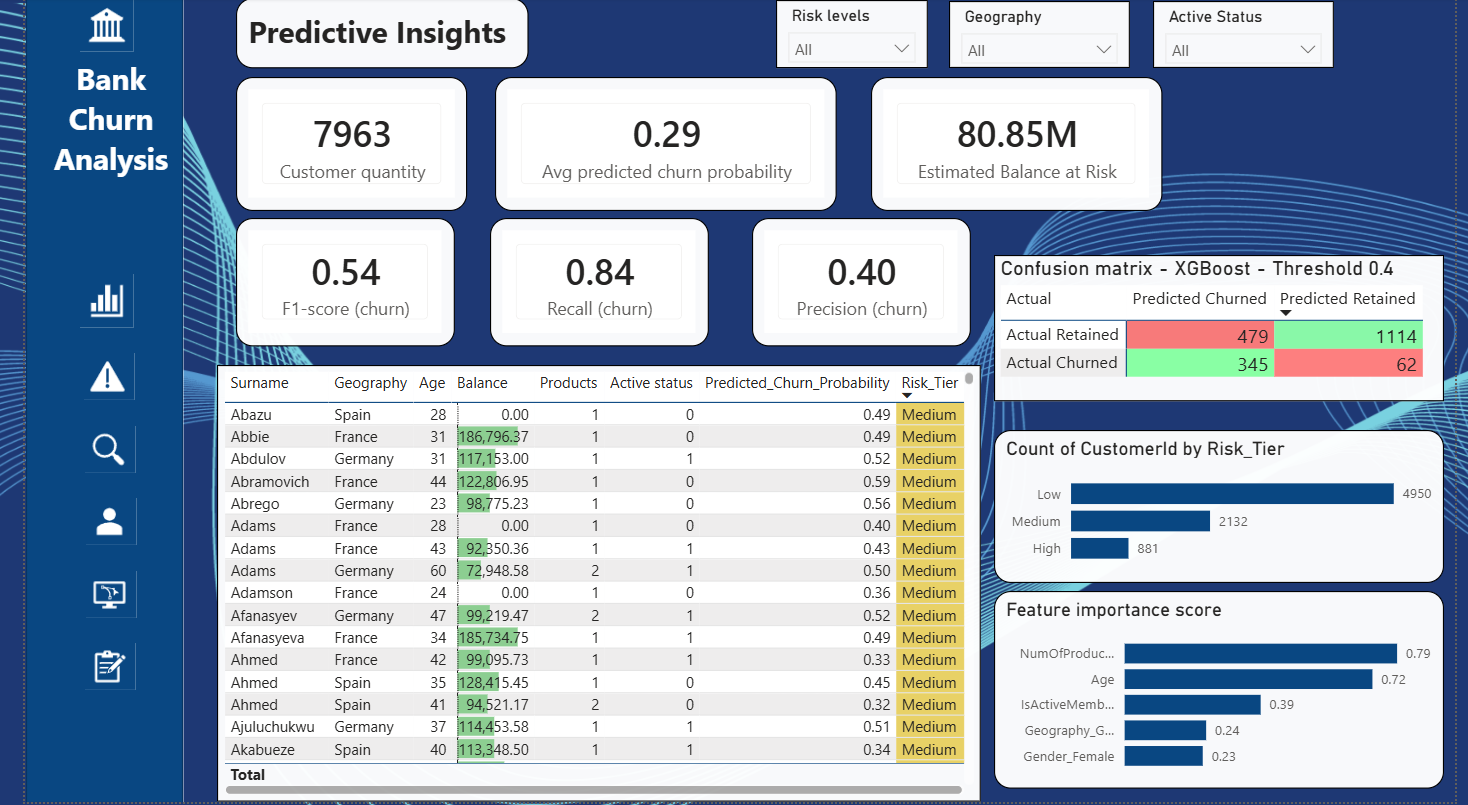

Layout of this report page (visuals, bound fields, positions):
{"tool":"powerbi","page":{"name":"🤖Predictive insights","canvas":[1280,720],"ordinal":4},"visuals":[{"type":"cardVisual","fields":{"Data":["DAX Measures prediction.Avg Predicted Churn Probability"]},"box":[421.2,71,306.4,119.6],"z":0},{"type":"cardVisual","fields":{"Data":["CountNonNull(bank_churn_predictions.Risk_Tier)"]},"box":[188.7,71,207.2,119.6],"z":1000},{"type":"cardVisual","fields":{"Data":["DAX Measures prediction.Estimated Balance at Risk"]},"box":[757.7,71,260.7,119.6],"z":2000},{"type":"tableEx","fields":{"Values":["Bank_Churn.Surname","Bank_Churn.Geography","Bank_Churn.Age","Bank_Churn.Balance","Bank_Churn.NumOfProducts","Bank_Churn.IsActiveMember","bank_churn_predictions.Predicted_Churn_Probability","bank_churn_predictions.Risk_Tier"]},"box":[172.2,328.8,683.8,391],"z":3000},{"type":"shape","box":[0.9,0,140.6,720.9],"z":4000},{"type":"textbox","box":[188.7,0,261.6,63.2],"z":5000},{"type":"slicer","fields":{"Values":["bank_churn_predictions.Risk_Tier"]},"box":[672.1,1.9,136.2,61.3],"z":6000},{"type":"cardVisual","fields":{"Data":["Sum(Metrics_both_class.Precision)"]},"box":[650.7,197.4,195.5,114.8],"z":7000},{"type":"cardVisual","fields":{"Data":["Sum(Metrics_both_class.Recall)"]},"box":[416.3,197.4,195.5,114.8],"z":8000},{"type":"cardVisual","fields":{"Data":["Sum(Metrics_both_class.F1-score)"]},"box":[188.7,197.4,195.5,114.8],"z":9000},{"type":"clusteredBarChart","title":"Feature importance score","fields":{"Category":["SHAP importance.Features"],"Y":["Sum(SHAP importance.Importance)"]},"box":[867.8,531,403,177.3],"z":10000},{"type":"pivotTable","title":"Confusion matrix - XGBoost - Threshold 0.4","fields":{"Rows":["Confusion Matrix.Actual"],"Values":["Sum(Confusion Matrix.Predicted Churned)","Sum(Confusion Matrix.Predicted Retained)"]},"box":[867.8,230.1,403,130.7],"z":11000},{"type":"slicer","fields":{"Values":["rfm_master_table_1.Geography"]},"box":[827.7,2.9,162.4,60.3],"z":12000},{"type":"slicer","fields":{"Values":["rfm_master_table_1.IsActive Status"]},"box":[1010.6,2.9,162.4,60.3],"z":13000},{"type":"clusteredBarChart","fields":{"Category":["bank_churn_predictions.Risk_Tier"],"Y":["CountNonNull(bank_churn_predictions.CustomerId)"]},"box":[867.8,386.9,403,137],"z":14000},{"type":"actionButton","box":[49.3,247.2,48.4,48.4],"z":15000},{"type":"actionButton","box":[53.9,383.1,44.8,42.1],"z":16000},{"type":"actionButton","box":[54.3,512.8,44.8,42.1],"z":17000},{"type":"actionButton","box":[53.2,318.3,44.8,42.1],"z":18000},{"type":"actionButton","box":[54.6,447.9,44.8,42.1],"z":19000},{"type":"actionButton","box":[53.6,577.6,44.8,42.1],"z":20000},{"type":"textbox","box":[7.2,48.4,139.7,128.1],"z":21000},{"type":"actionButton","box":[49.3,0,48.4,48.4],"z":22000}]}

Visuals, with their boxes in screenshot pixels (x1, y1, x2, y2):
cardVisual - DAX Measures prediction.Avg Predicted Churn Probability: <box>496,78,834,211</box>
cardVisual - CountNonNull(bank_churn_predictions.Risk_Tier): <box>239,78,468,211</box>
cardVisual - DAX Measures prediction.Estimated Balance at Risk: <box>868,78,1156,211</box>
tableEx - Bank_Churn.Surname x Bank_Churn.Geography: <box>221,363,976,795</box>
shape: <box>32,0,187,796</box>
textbox: <box>239,0,528,70</box>
slicer - bank_churn_predictions.Risk_Tier: <box>773,2,924,70</box>
cardVisual - Sum(Metrics_both_class.Precision): <box>749,218,965,345</box>
cardVisual - Sum(Metrics_both_class.Recall): <box>491,218,707,345</box>
cardVisual - Sum(Metrics_both_class.F1-score): <box>239,218,455,345</box>
"Feature importance score" clusteredBarChart: <box>989,587,1435,783</box>
"Confusion matrix - XGBoost - Threshold 0.4" pivotTable: <box>989,254,1435,399</box>
slicer - rfm_master_table_1.Geography: <box>945,3,1124,70</box>
slicer - rfm_master_table_1.IsActive Status: <box>1147,3,1327,70</box>
clusteredBarChart - bank_churn_predictions.Risk_Tier x CountNonNull(bank_churn_predictions.CustomerId): <box>989,427,1435,579</box>
actionButton: <box>85,273,139,327</box>
actionButton: <box>90,423,140,470</box>
actionButton: <box>91,567,140,613</box>
actionButton: <box>89,352,139,398</box>
actionButton: <box>91,495,140,541</box>
actionButton: <box>90,638,139,685</box>
textbox: <box>39,53,193,195</box>
actionButton: <box>85,0,139,53</box>
